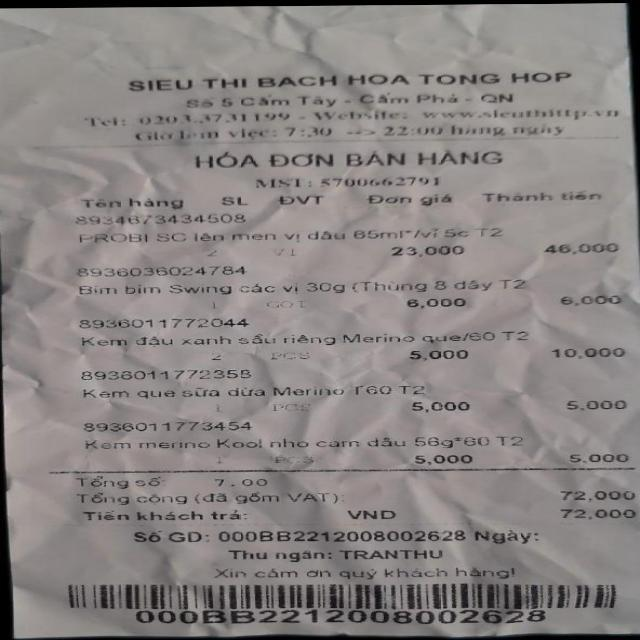Store_Name: (107, 49, 584, 94)
Total_Amount: (62, 487, 639, 507)
